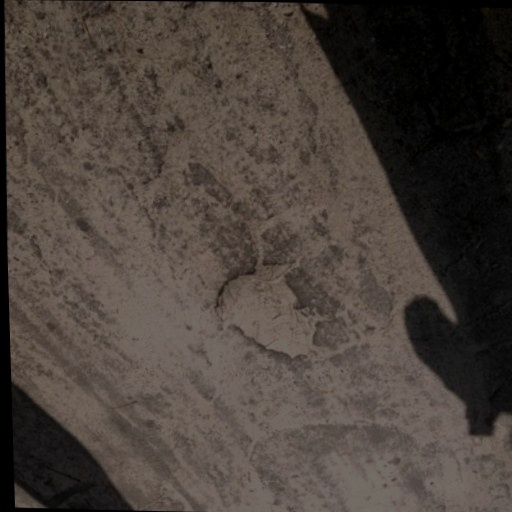pothole: (208, 260, 325, 364)
